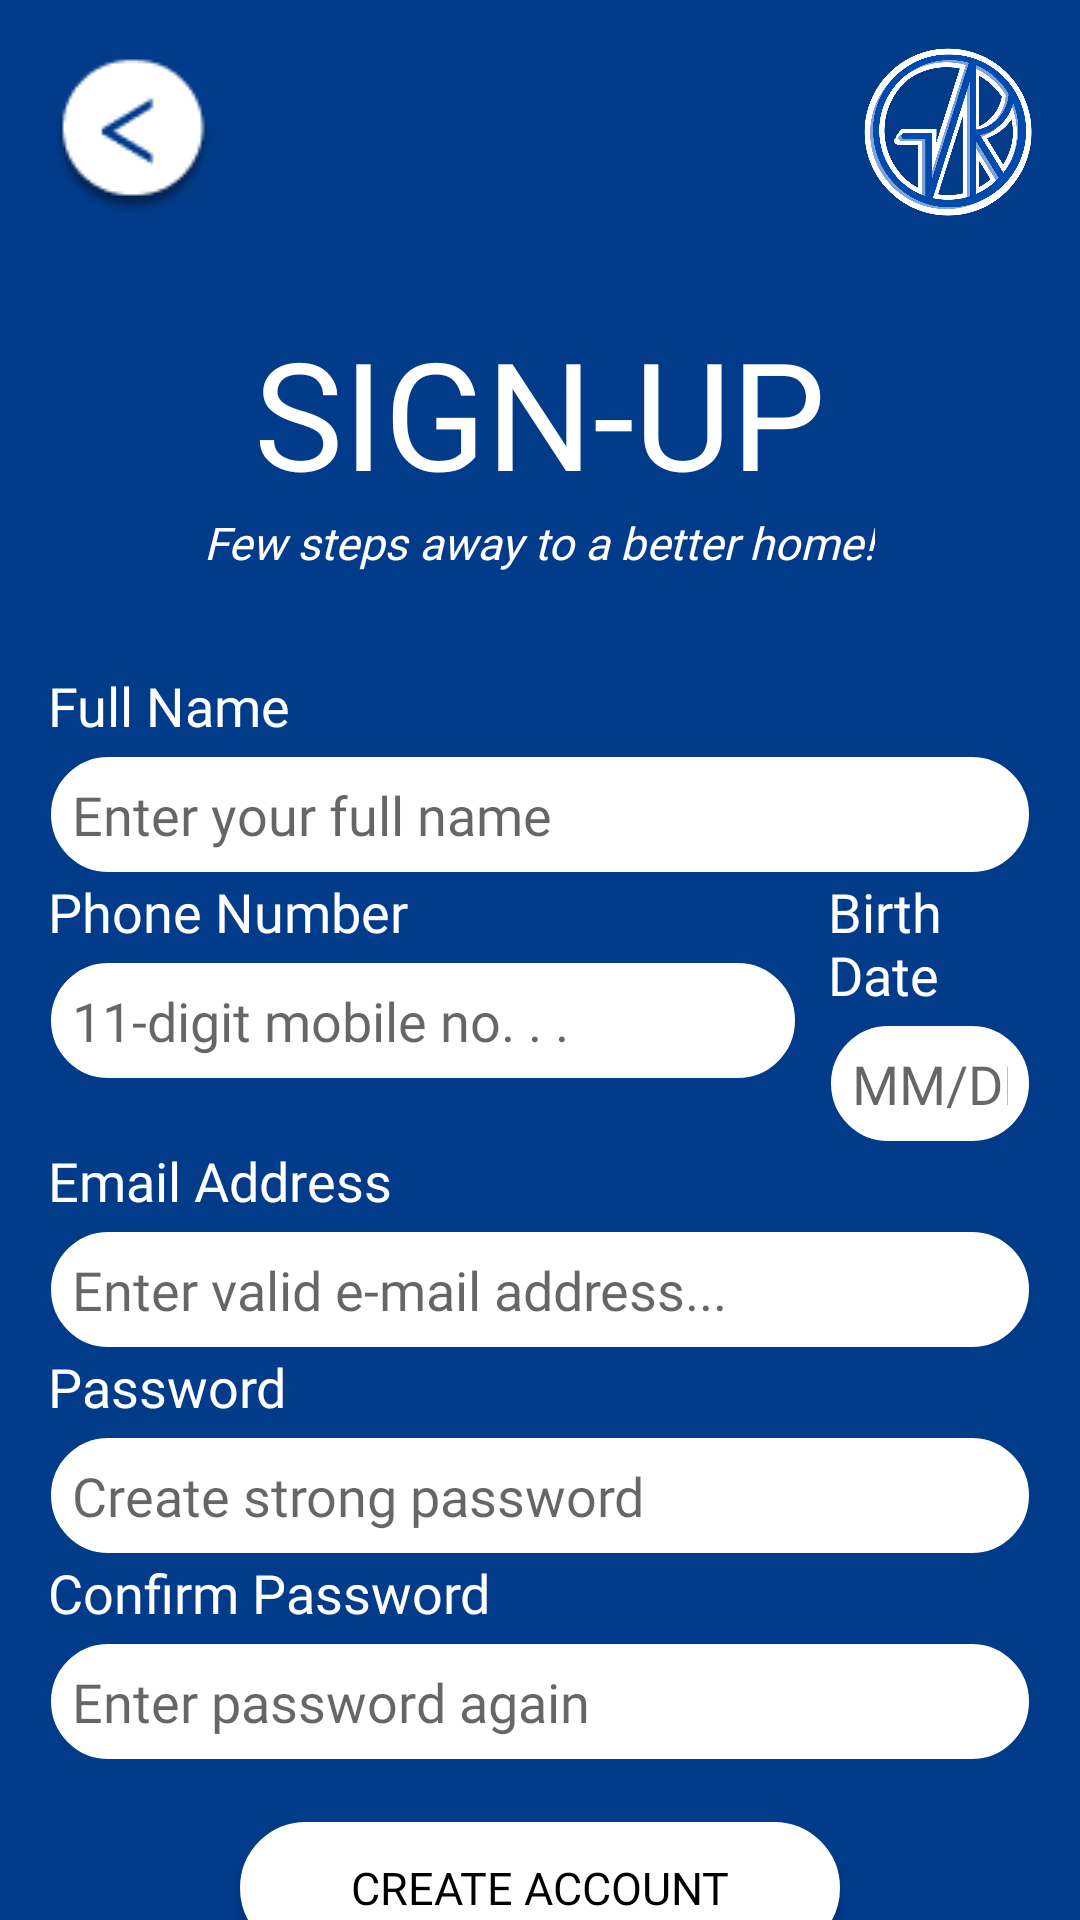

Screen size 1080px x 1920px. Icon name, then its box in pixels as (x1, y1, x2, y2):
back: (62, 59, 205, 206)
